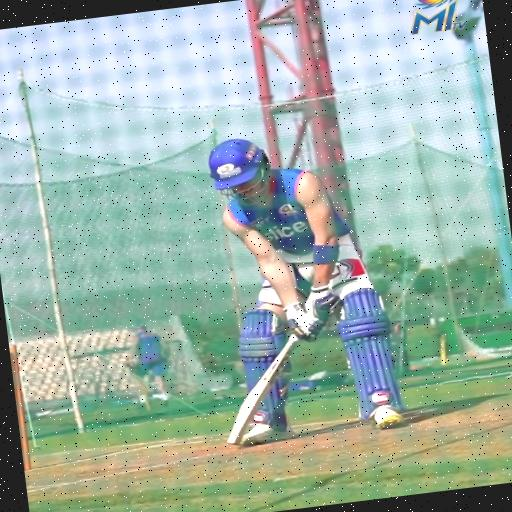Cricket bat: (227, 333, 300, 444)
